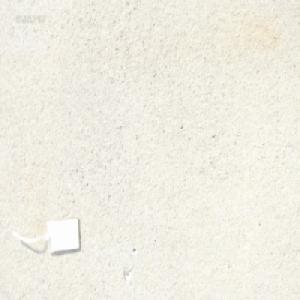LuggageTag: (11, 215, 83, 258)
